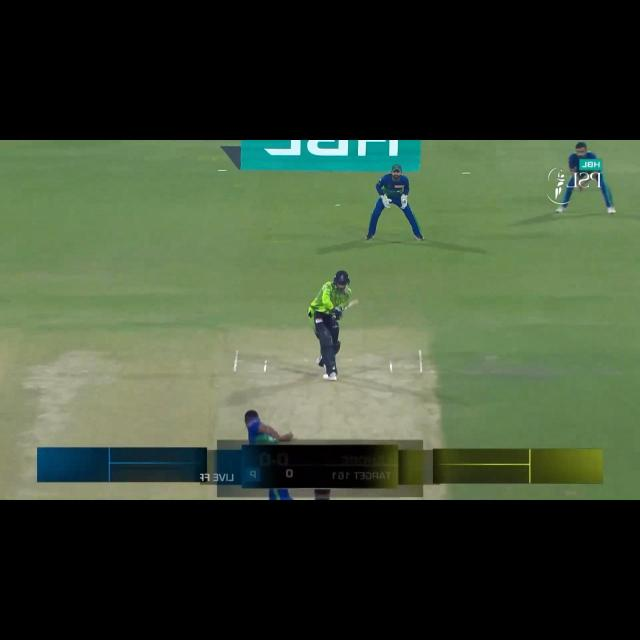bat: (337, 297, 361, 311)
toe: (353, 298, 360, 306)
